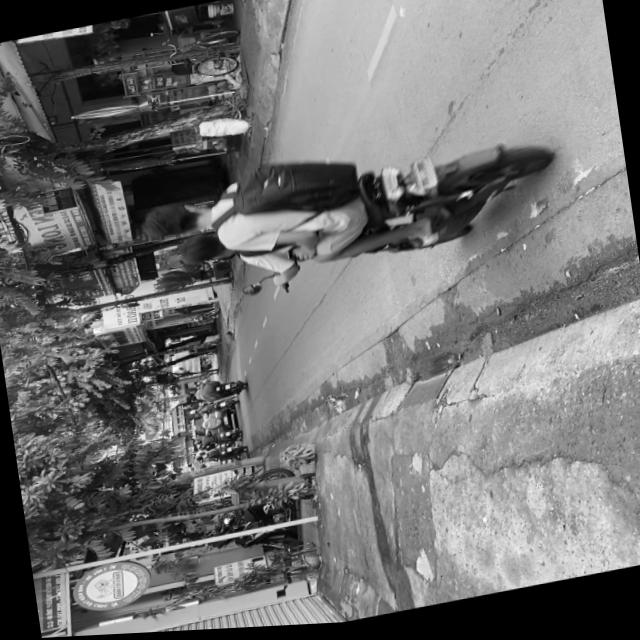licenseplate: (135, 112, 565, 313)
motorcyclist: (140, 196, 216, 246), (174, 229, 234, 271)
